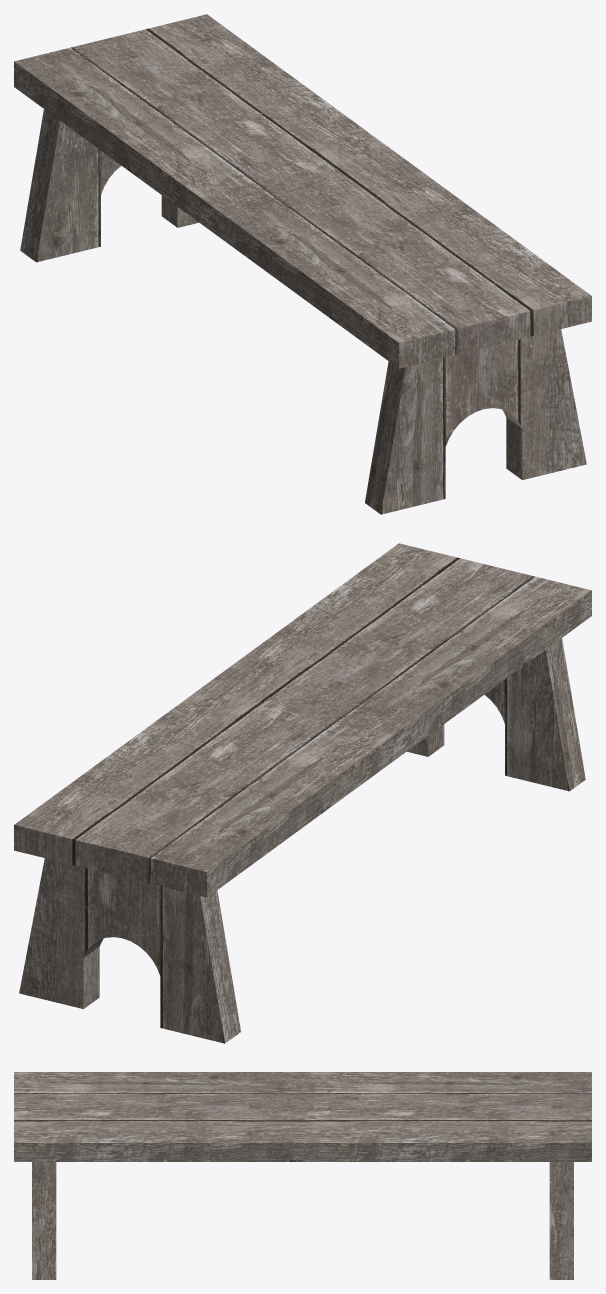
File: Bench.fbx
The picture shows the model from 3 angles, top to bottom: view 1: azimuth 30°, elevation 25°; view 2: azimuth 150°, elevation 25°; view 3: azimuth 270°, elevation 25°; orthographic projection. The views are drawn at different scales.
Parts seen in each view (by area): view 1: Model; view 2: Model; view 3: Model.
Part boxes in pixels (x1=…): Model: x1=14, y1=14, x2=591, y2=514; Model: x1=14, y1=543, x2=591, y2=1043; Model: x1=14, y1=1072, x2=591, y2=1279.
Bounding box in the file's own units: 0.59 × 0.49 × 1.91.
